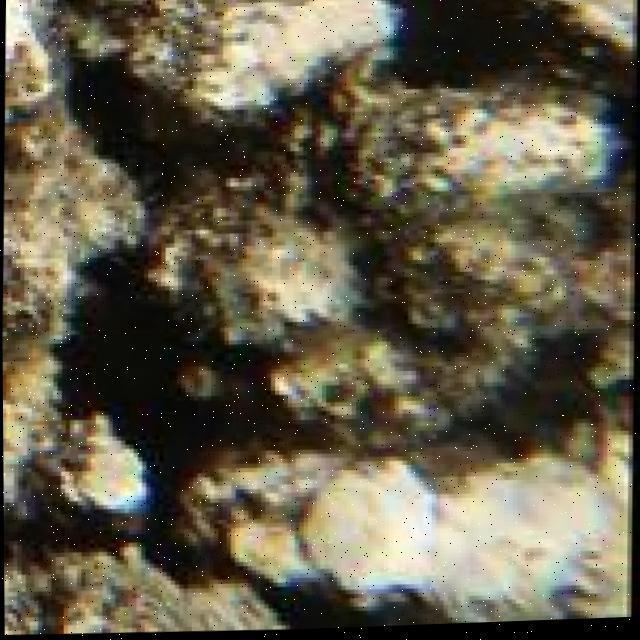Bleached Coral: (294, 440, 600, 620), (217, 0, 396, 114)
